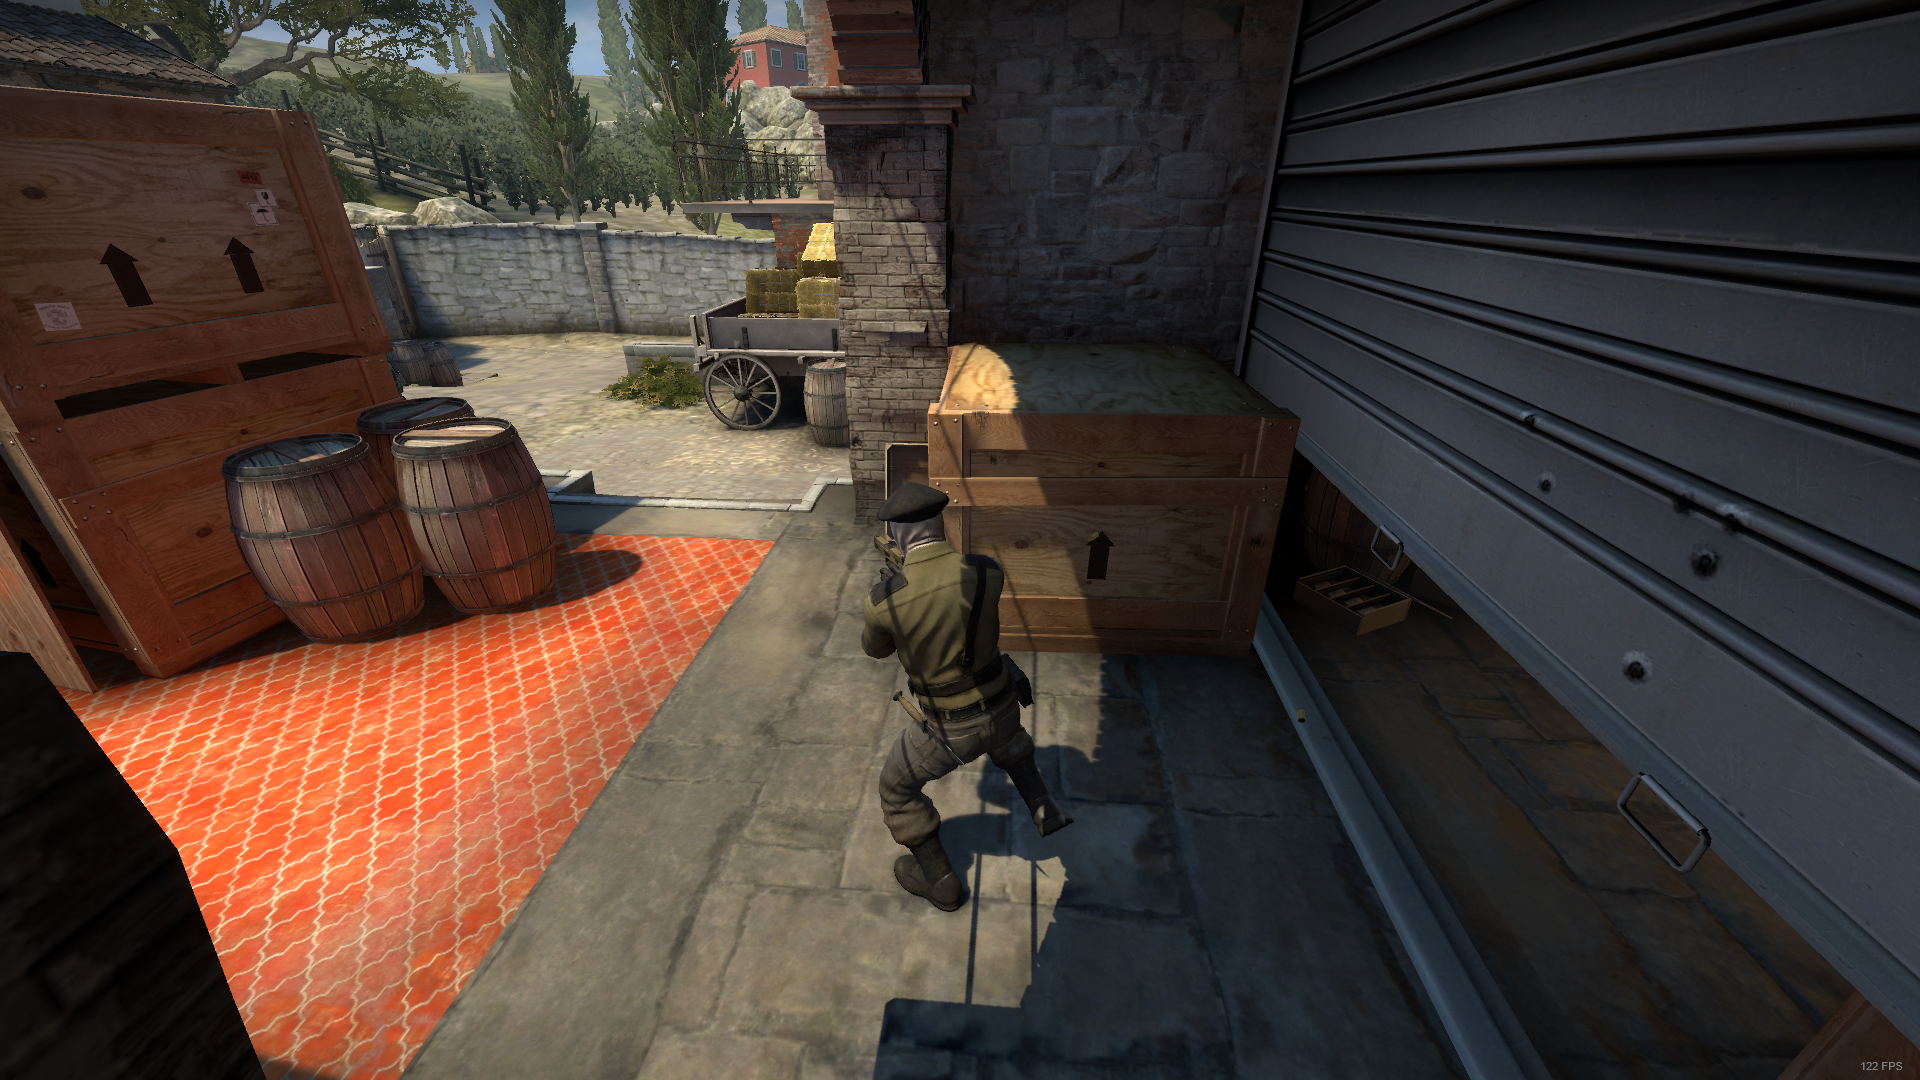t: (861, 483, 1077, 909)
